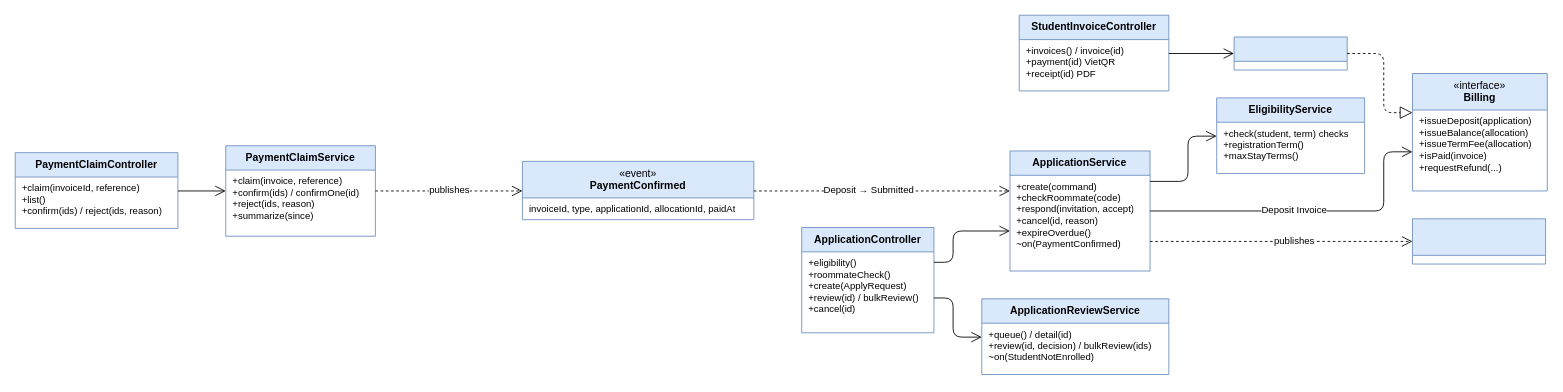
This 1563x392 diagram has some shape labels left out. The centre of each missing label's shape, as x and y in pixels:
"JdbcBilling" goes at [1290,53].
"«event» ApplicationSubmitted" goes at [1479,241].
